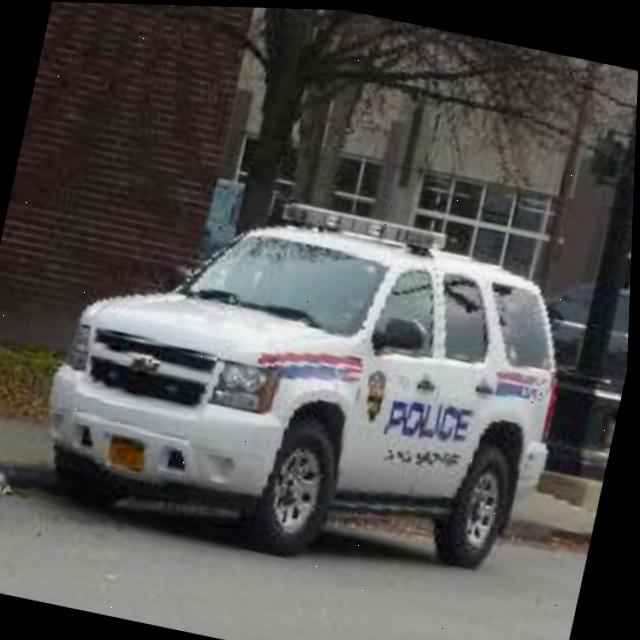emergency: (12, 147, 598, 604)
